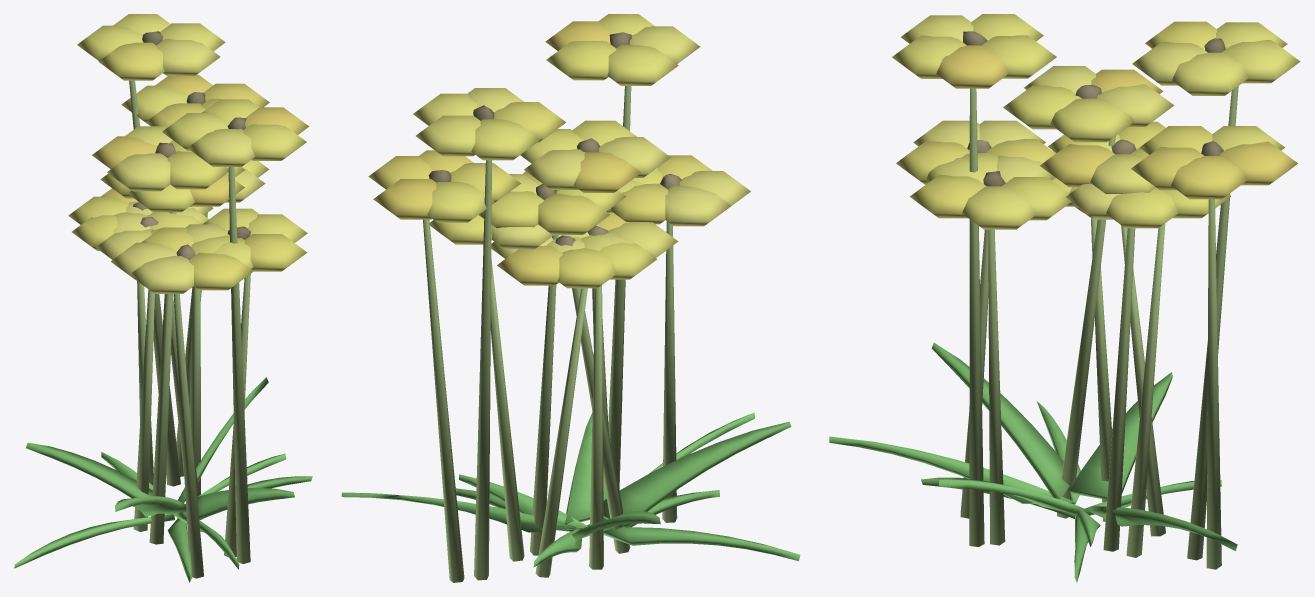
Rendered from poppy_1.glb.
3 views of the same model, side by side, from view 1: azimuth 30°, elevation 25°; view 2: azimuth 150°, elevation 25°; view 3: azimuth 270°, elevation 25° (orthographic). The views are drawn at different scales.
Parts seen in each view (by area): view 1: poppy; view 2: poppy; view 3: poppy.
Boxes of the visible parts, bbox=[...] form: poppy: bbox=[14, 14, 312, 582]; poppy: bbox=[341, 14, 800, 582]; poppy: bbox=[829, 14, 1300, 582].
Bounding box in the file's own units: 0.3747 × 0.472 × 0.3929.
